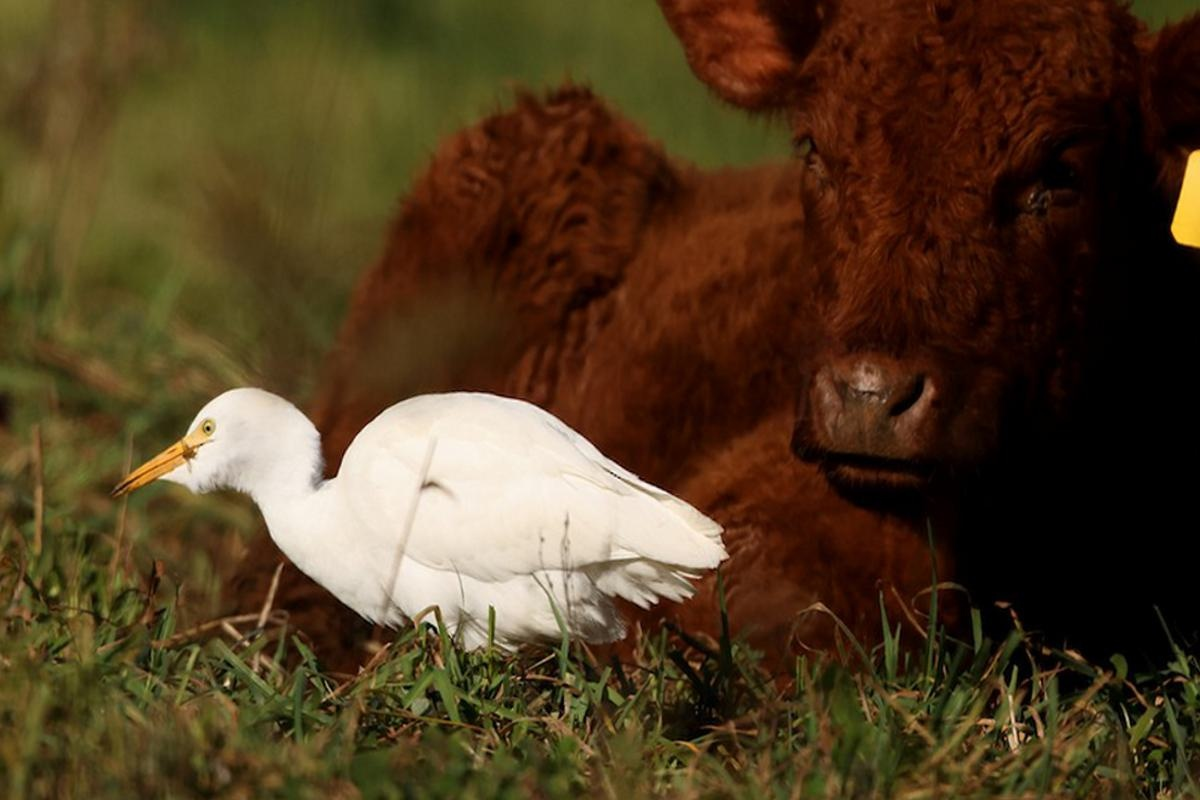egret: (110, 380, 765, 649)
